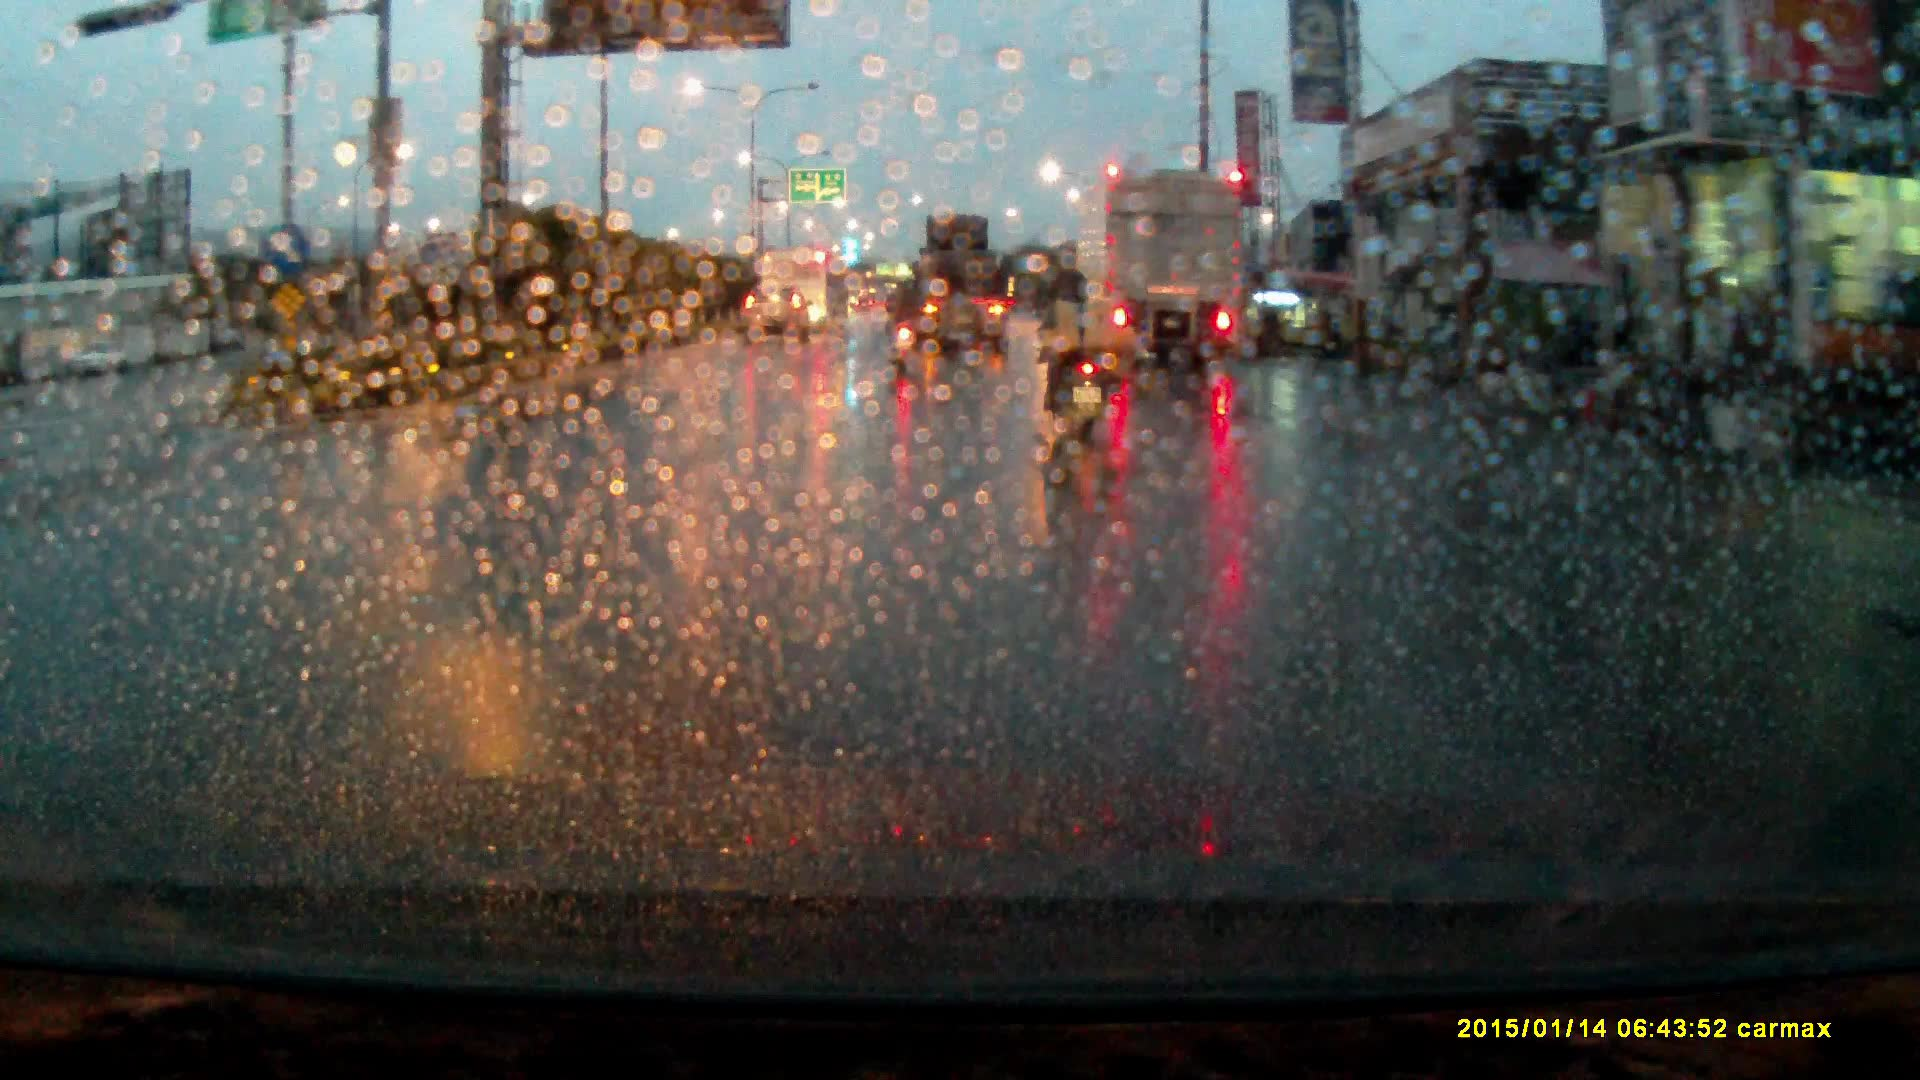rider: (1039, 261, 1123, 441), (890, 268, 927, 366)
vehicle: (1073, 167, 1252, 371), (899, 212, 1001, 361), (770, 244, 845, 327), (743, 285, 815, 351)
